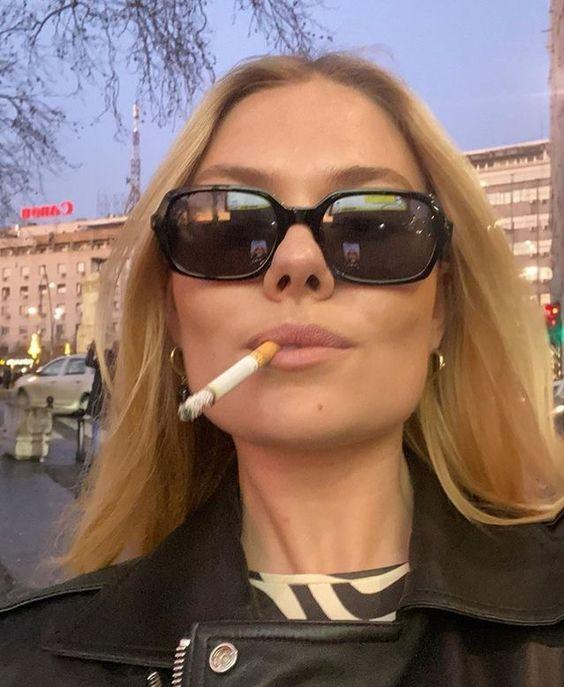cigarette: (178, 340, 282, 423)
